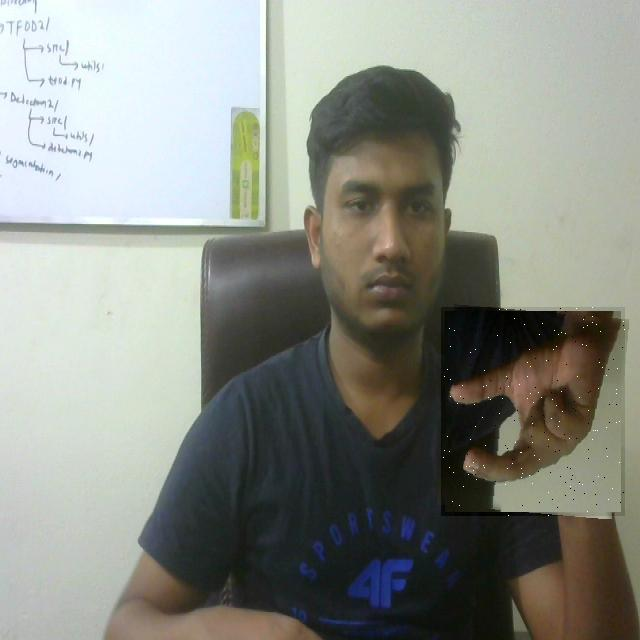No: (441, 307, 625, 516)
